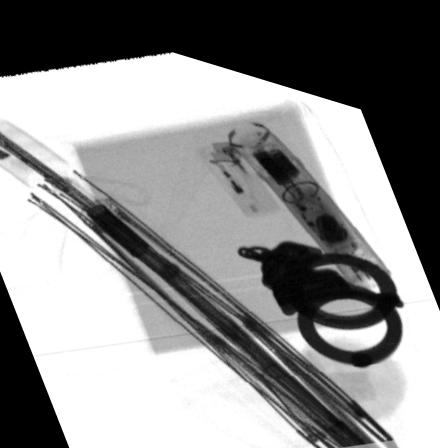Baton: (225, 106, 396, 268)
HandCuffs: (234, 223, 405, 346)
Lighter: (197, 127, 280, 204)
